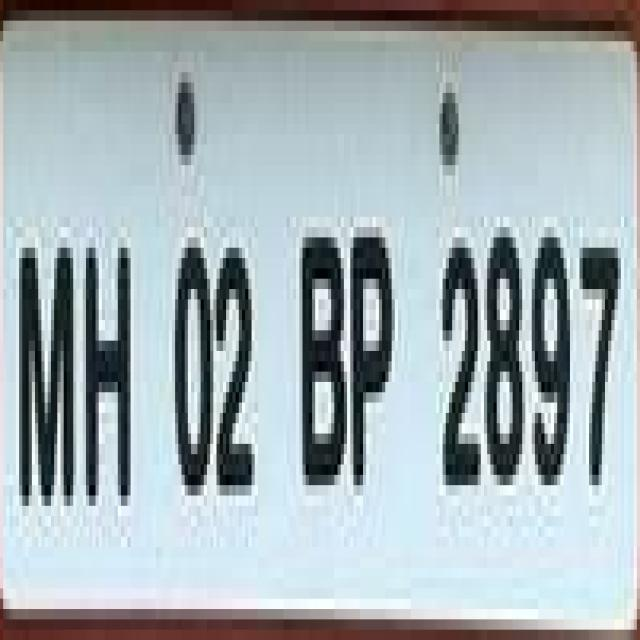license_plate: (0, 51, 611, 609)
